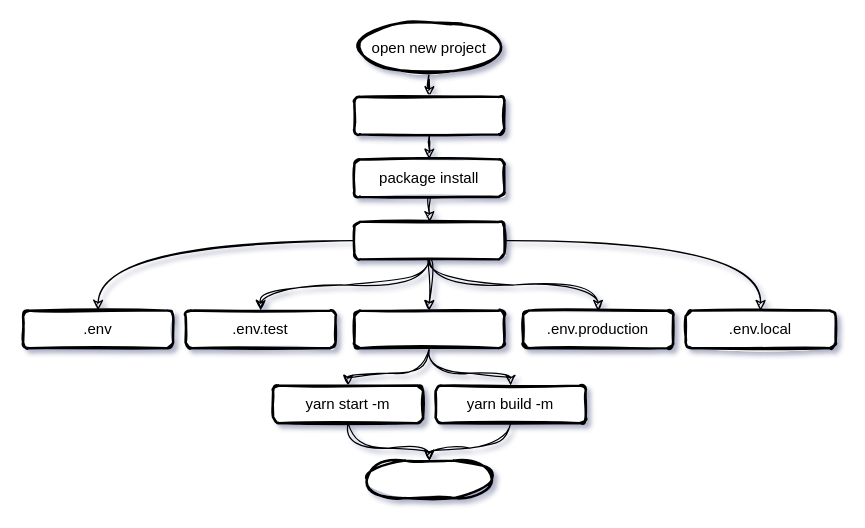
Some shapes in this 865 by 528 pixel diagram are drawn without their labels. The centre of each missing label's shape, as x and y in pixels:
.env.staging: (x=428, y=329)
dotenv: (x=428, y=240)
README.md: (x=428, y=115)
wishlist: (x=428, y=479)
